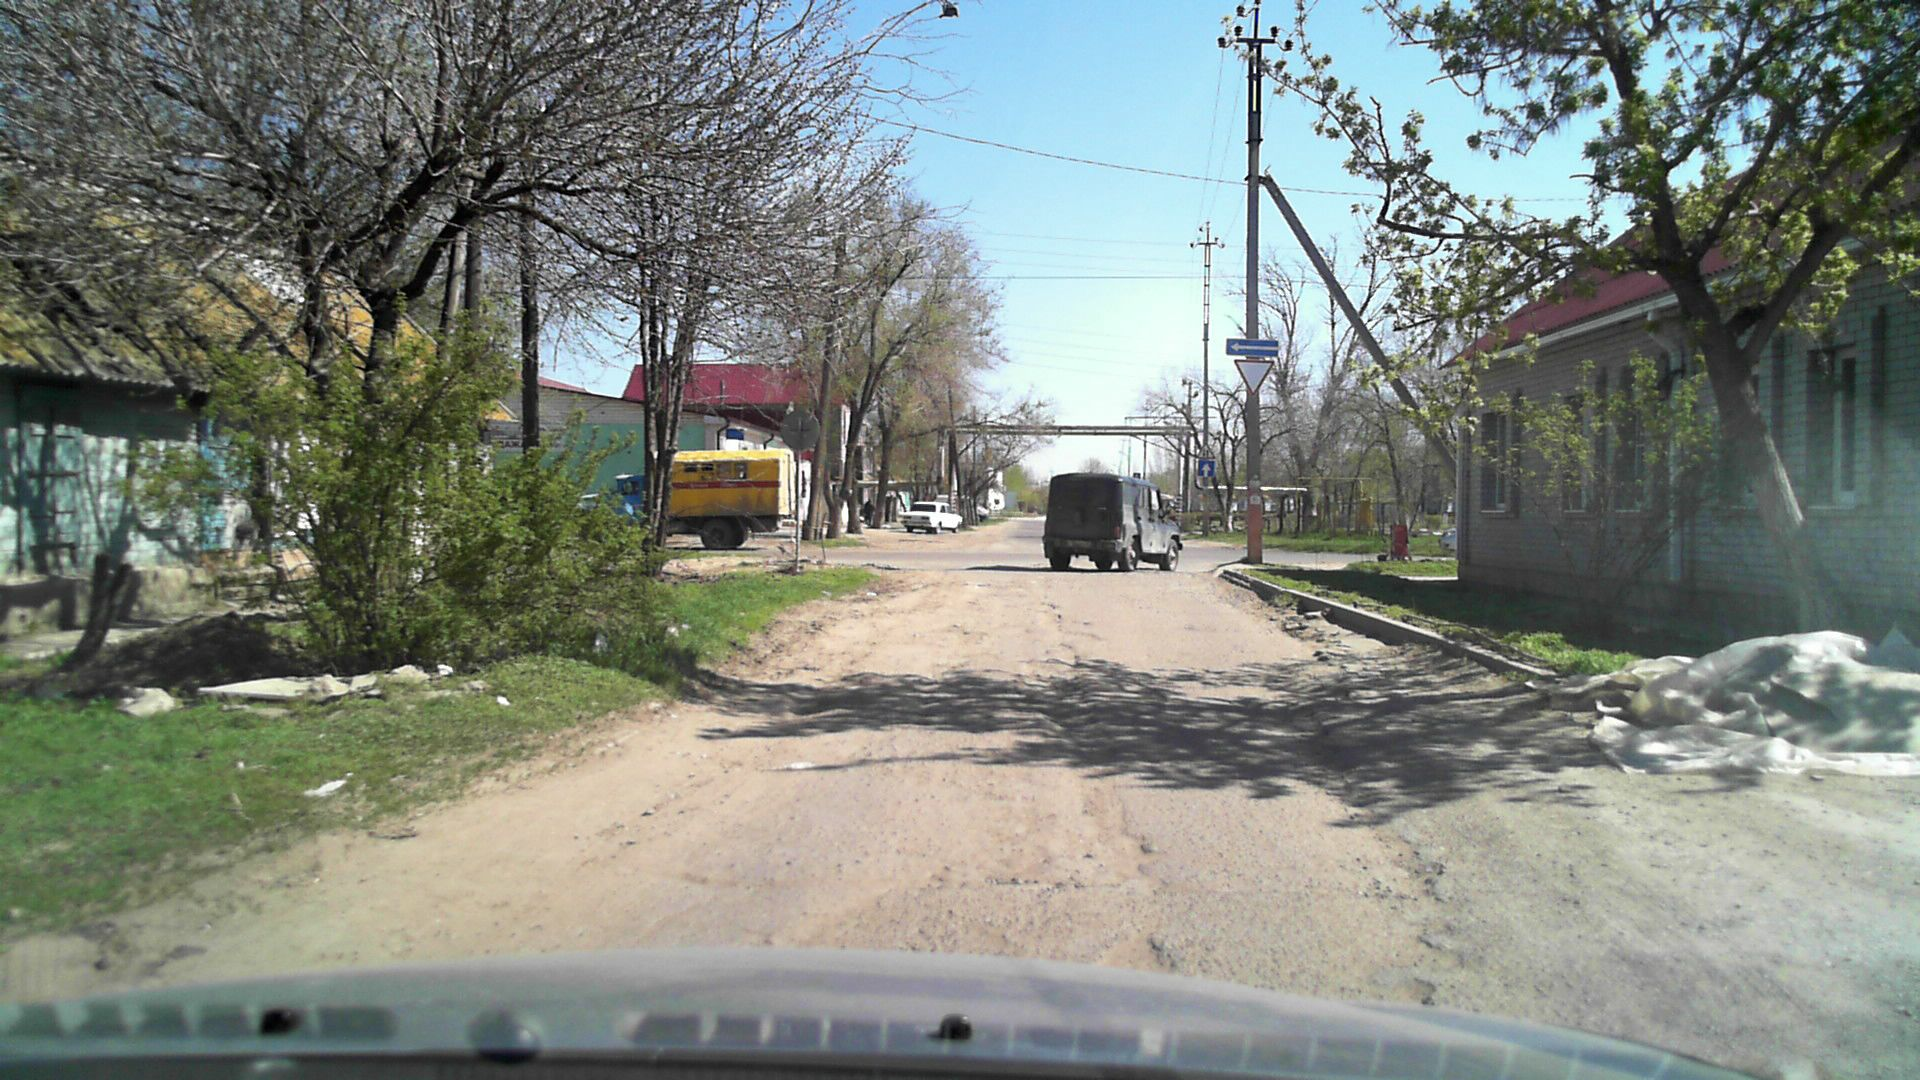One-Way Traffic: (1226, 338, 1279, 356)
